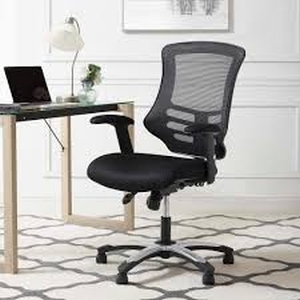chair: (85, 41, 247, 286)
